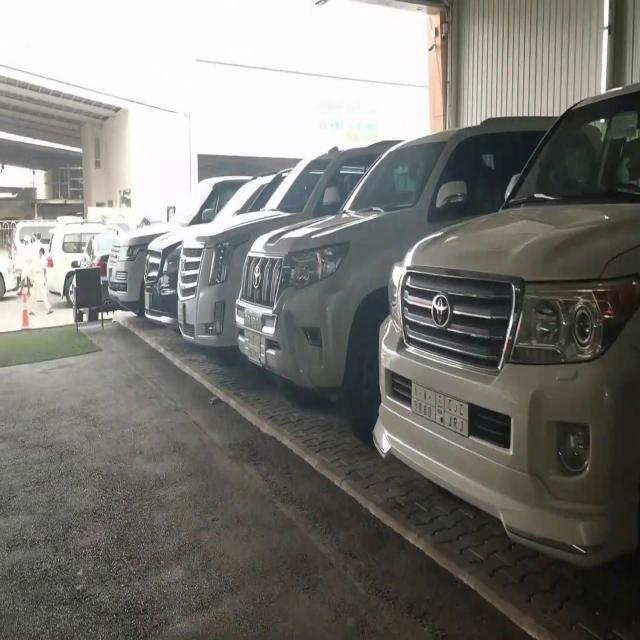license_plate: (406, 370, 468, 440)
